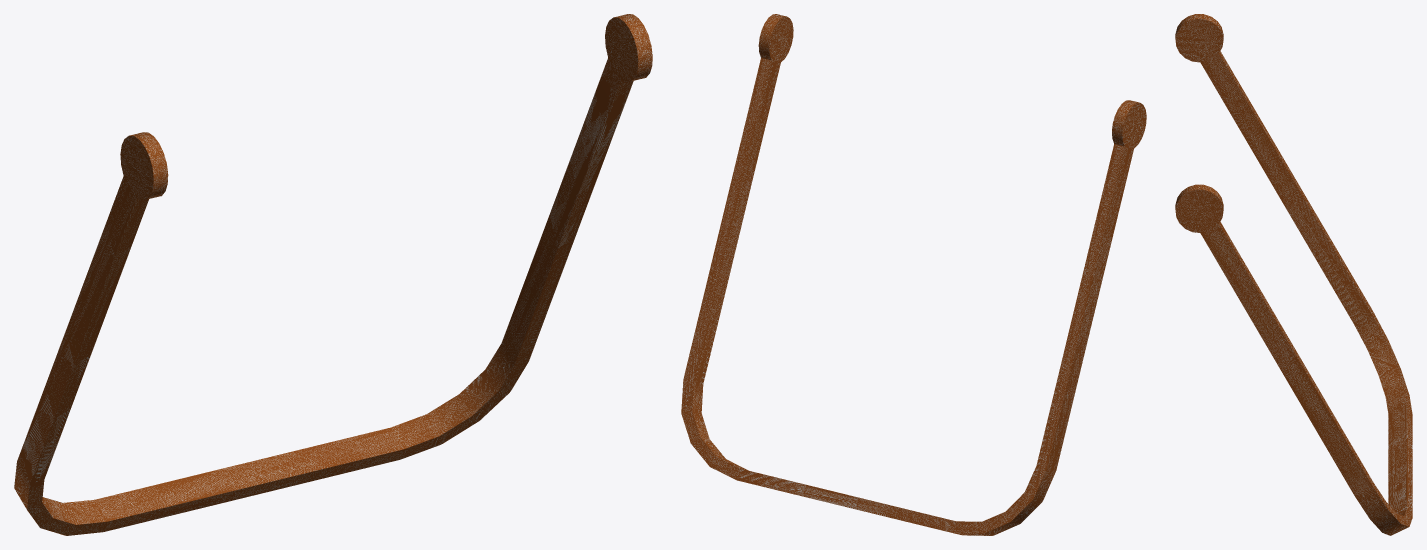
Rendered from original-2.obj.
The picture shows the model from 3 angles, left to right: view 1: azimuth 30°, elevation 25°; view 2: azimuth 150°, elevation 25°; view 3: azimuth 270°, elevation 25°; orthographic projection. The views are drawn at different scales.
Visible parts, largest first — view 1: mesh2/mesh2-geometry#mesh2-geometry; view 2: mesh2/mesh2-geometry#mesh2-geometry; view 3: mesh2/mesh2-geometry#mesh2-geometry.
Part boxes in pixels (<box>): mesh2/mesh2-geometry#mesh2-geometry: <box>14,14,652,535</box>; mesh2/mesh2-geometry#mesh2-geometry: <box>681,14,1146,535</box>; mesh2/mesh2-geometry#mesh2-geometry: <box>1175,14,1412,535</box>.
Bounding box in the file's own units: 0.8426 × 0.8346 × 0.4804.
